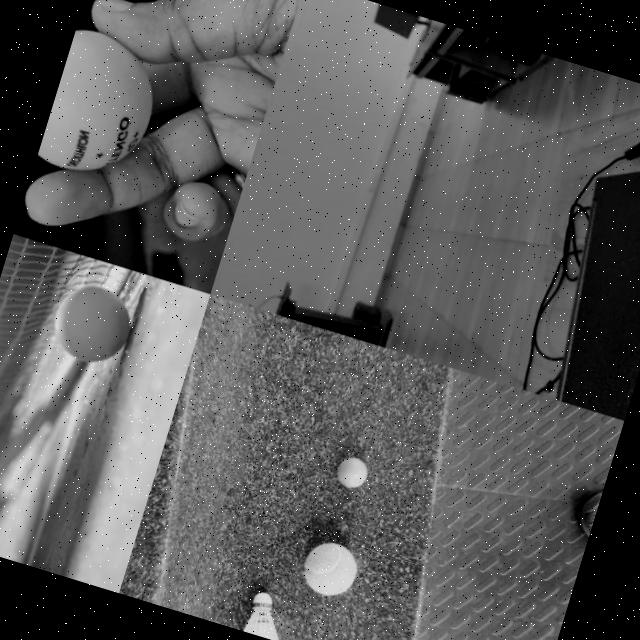ping-pong-ball: (35, 24, 166, 188), (42, 274, 140, 370), (332, 454, 370, 489)
